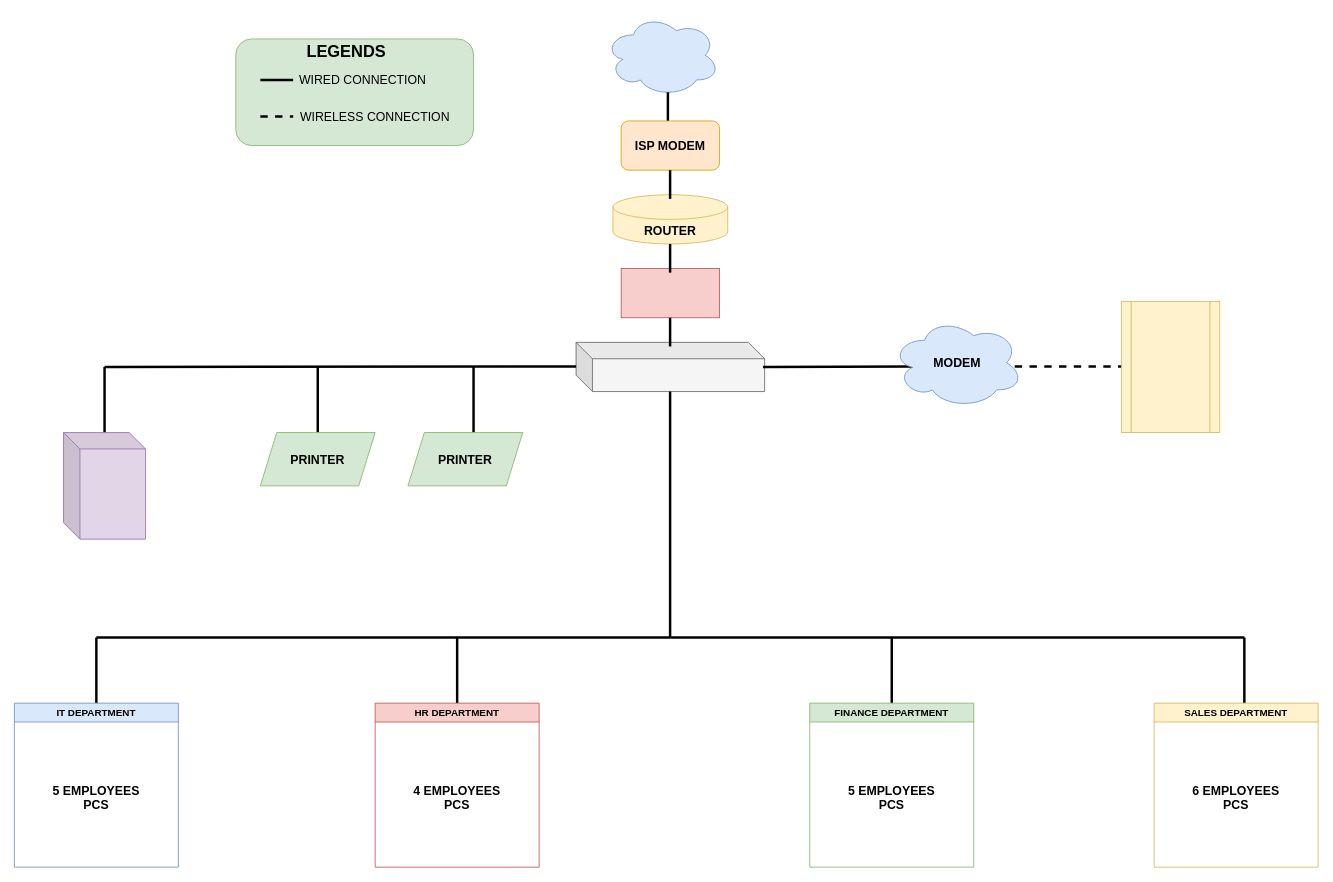
Image size: 1333x882. Some labels were removed from this diagram. The centre of each missing label's shape, as x and y in pixels:
FIREWALL: the point at 670,293
INTERNET: the point at 662,55
OTHER END DEVICES (PHONES, LAPTOPS, ETC): the point at 1170,367
SERVER: the point at 104,485
SWITCH: the point at 670,367
